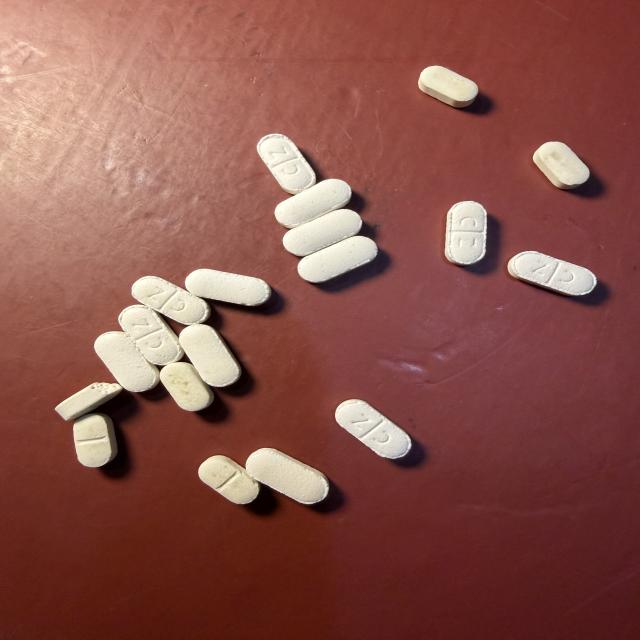pill: (246, 448, 329, 504), (336, 400, 411, 458), (508, 251, 596, 295), (119, 305, 183, 365), (95, 332, 159, 392), (132, 276, 210, 324), (275, 179, 351, 228), (180, 325, 241, 386), (283, 209, 362, 256), (298, 236, 377, 283), (257, 134, 315, 194), (186, 269, 271, 306), (199, 456, 259, 504), (533, 142, 589, 189), (445, 201, 486, 265), (160, 362, 213, 411), (418, 66, 478, 108), (55, 383, 122, 420), (74, 413, 117, 467)
